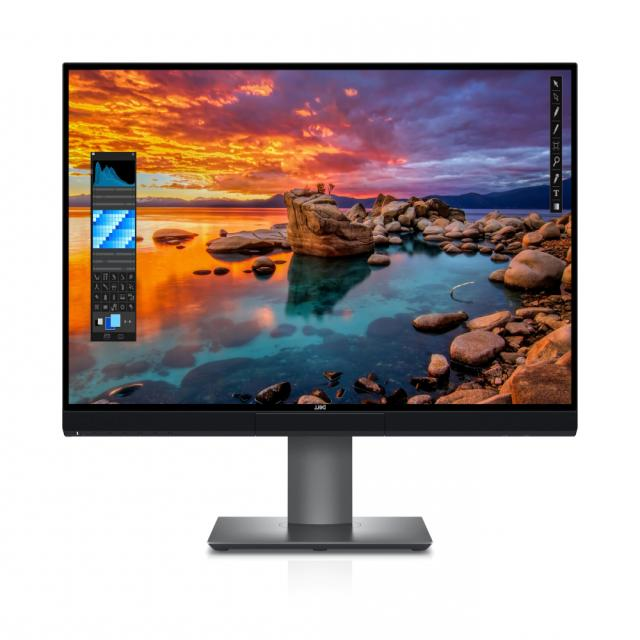monitor: (51, 48, 591, 566)
